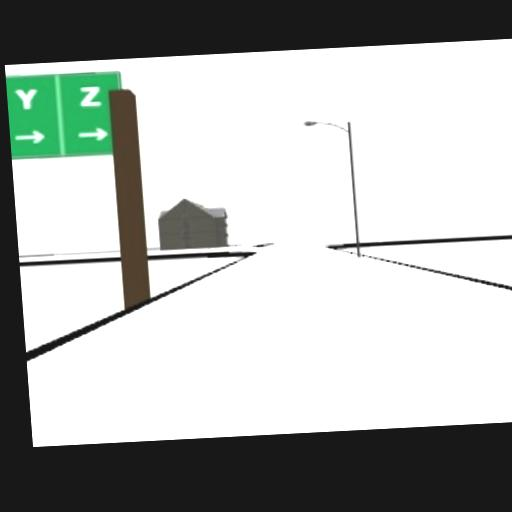Right: (76, 126, 109, 141), (13, 130, 46, 144)
Y: (14, 87, 39, 111)
Z: (78, 85, 103, 108)
